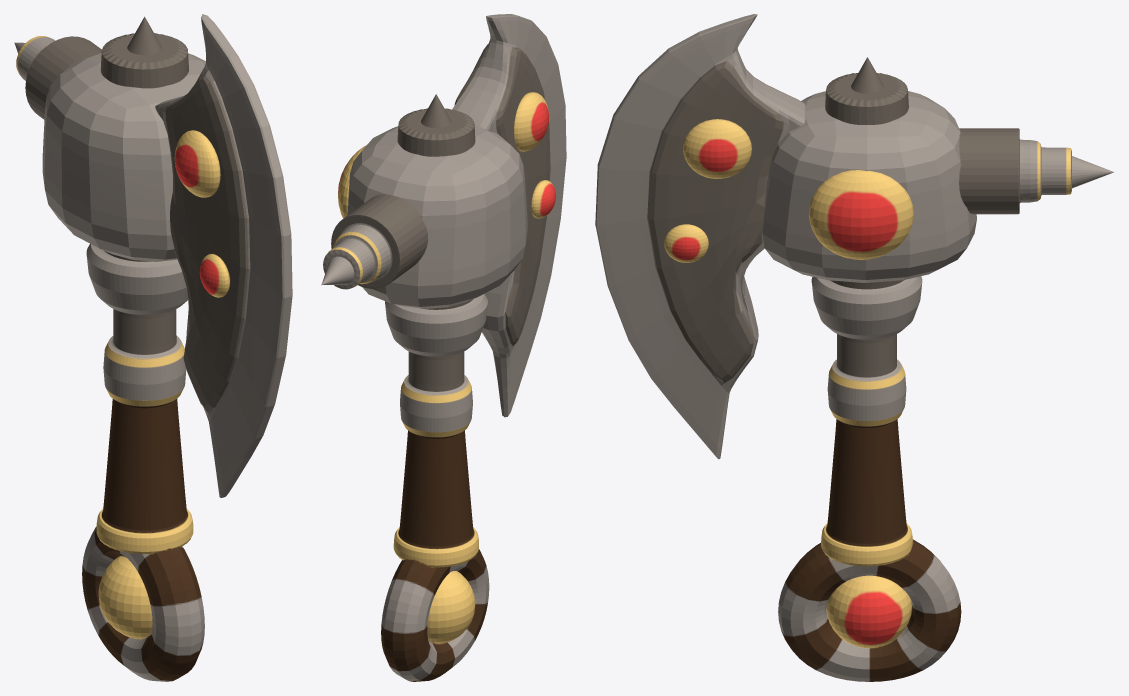
Rendered from Axepoprawiony.fbx.
3 views of the same model, side by side, from view 1: azimuth 30°, elevation 25°; view 2: azimuth 150°, elevation 25°; view 3: azimuth 270°, elevation 25° (orthographic). The views are drawn at different scales.
Visible parts, largest first — view 1: Cylinder.014; view 2: Cylinder.014; view 3: Cylinder.014.
Part boxes in pixels (left/top/right/bottom): Cylinder.014: left=14, top=14, right=292, bottom=681; Cylinder.014: left=321, top=14, right=566, bottom=681; Cylinder.014: left=595, top=14, right=1114, bottom=681.
Size of the model in its own units: 1.24 by 4.37 by 3.09.
